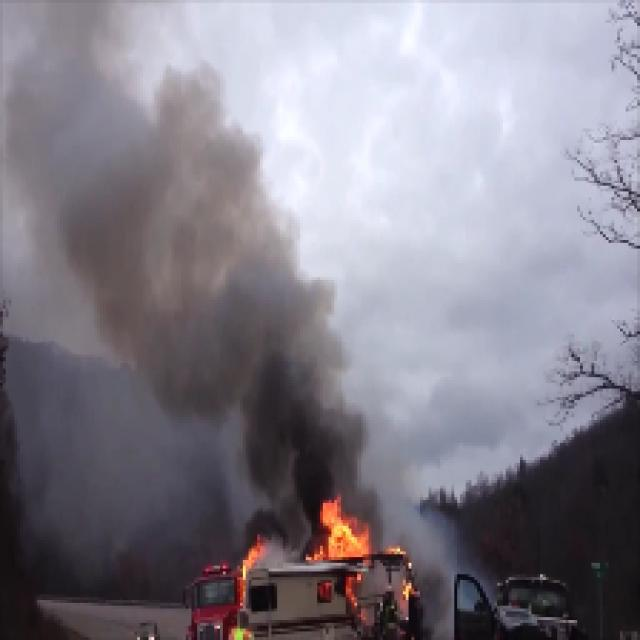fire: (318, 504, 423, 622)
smoke: (18, 3, 223, 513), (231, 140, 375, 481)
